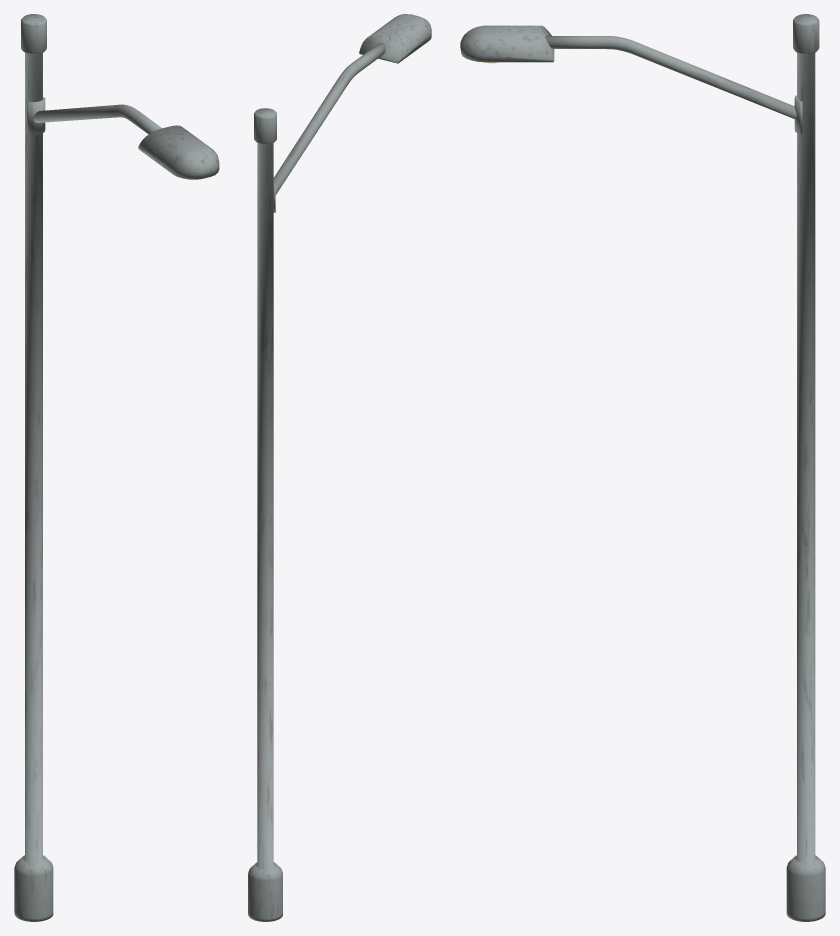
File: m_street_light_01.glb
3 renders of one model, left to right at view 1: azimuth 30°, elevation 25°; view 2: azimuth 150°, elevation 25°; view 3: azimuth 270°, elevation 25°, orthographic. The views are drawn at different scales.
Visible parts, largest first — view 1: Street Light 1; view 2: Street Light 1; view 3: Street Light 1.
Boxes of the visible parts, x1=… form: Street Light 1: x1=14, y1=14, x2=219, y2=921; Street Light 1: x1=248, y1=14, x2=431, y2=921; Street Light 1: x1=460, y1=14, x2=825, y2=921.
Size of the model in its own units: 0.2776 by 5.52 by 2.04.
2 materials, 2 textured.
